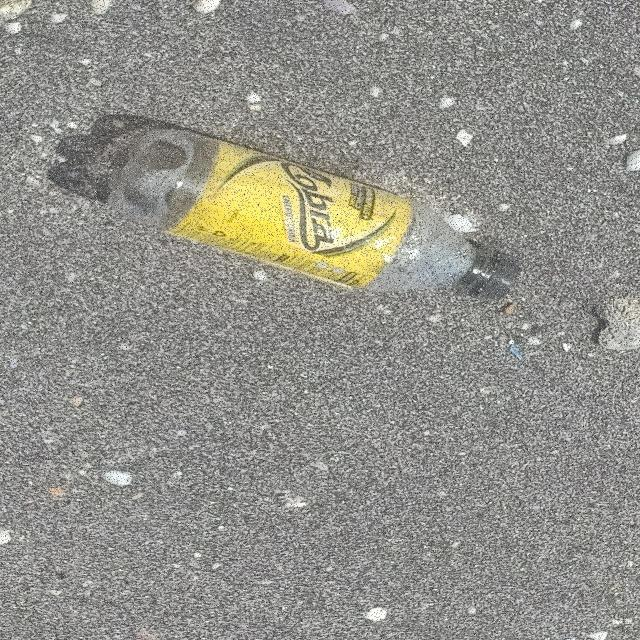plastic_waste: (106, 126, 525, 306)
